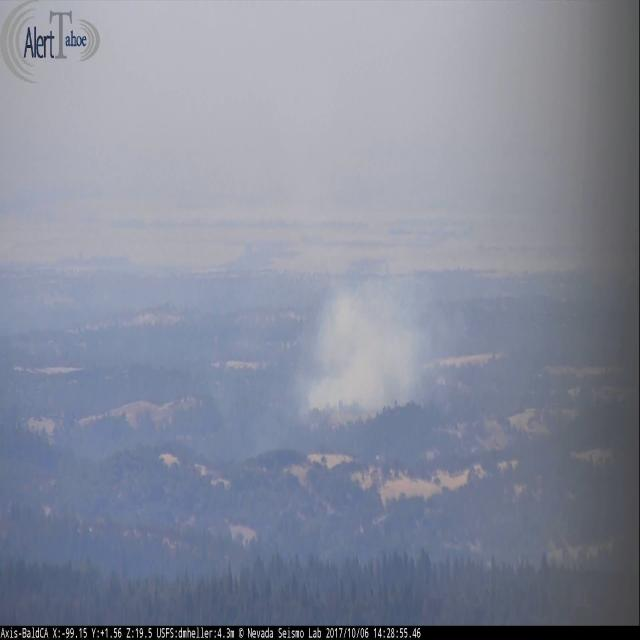smoke: (305, 285, 436, 418)
